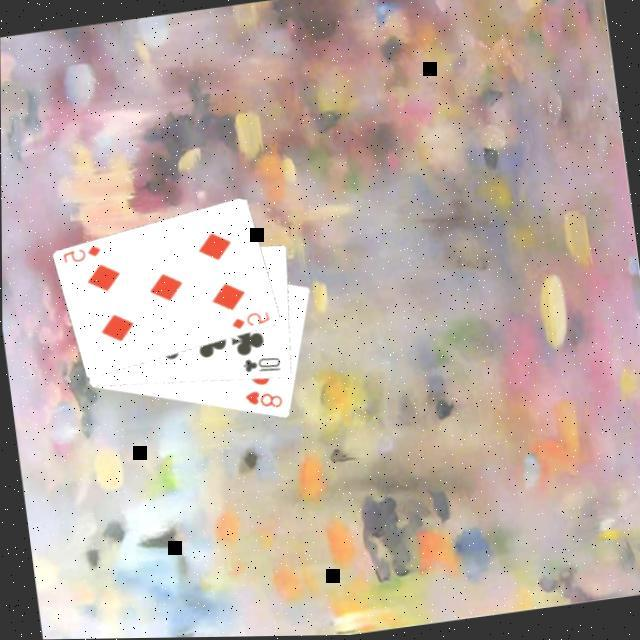10C: (236, 352, 281, 378)
5D: (226, 306, 272, 334), (56, 240, 102, 266)
8H: (238, 384, 284, 414)
